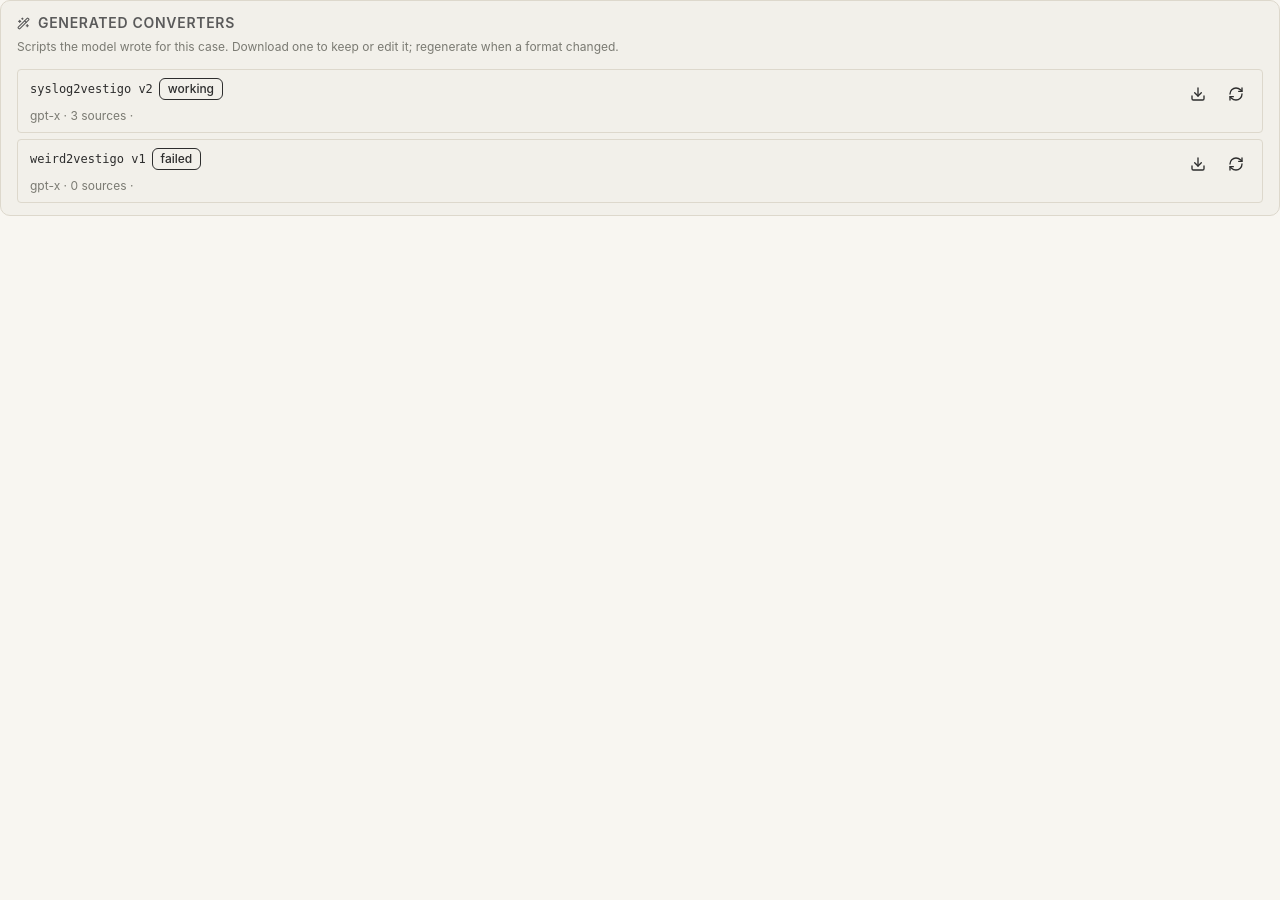
GeneratedConvertersPanel › disables Regenerate for a script whose job is in flight and polls the list
The width and height of the screenshot is (1280, 900).
What coordinates should you click on to do the following:
click the button named "Regenerate syslog2vestigo"
I would click on:
 (1236, 94)
Its box is [1218, 76, 1254, 112].
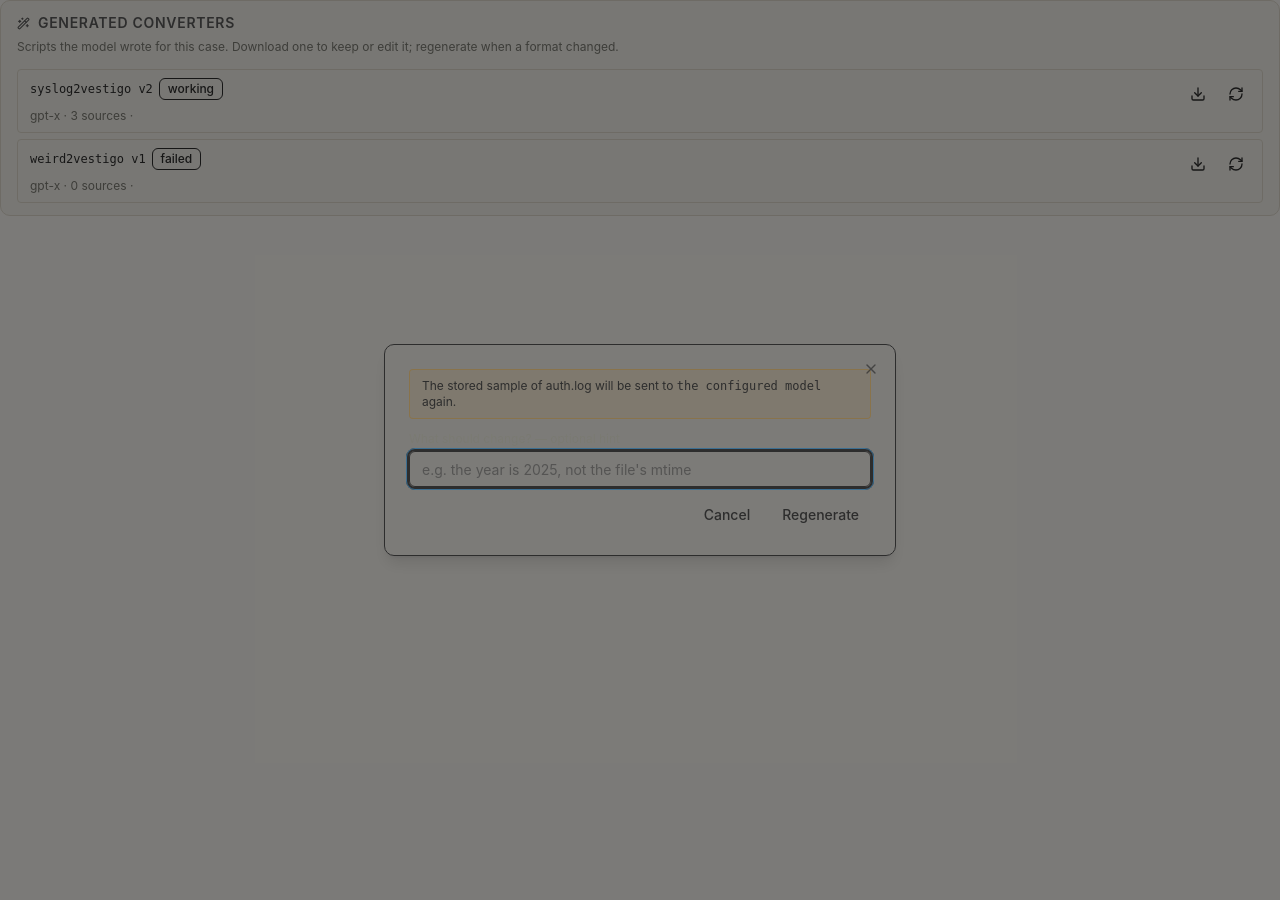
What coordinates should you click on to do the following:
click the button "Regenerate"
I would click on:
 (821, 515)
Its box is [770, 499, 871, 531].
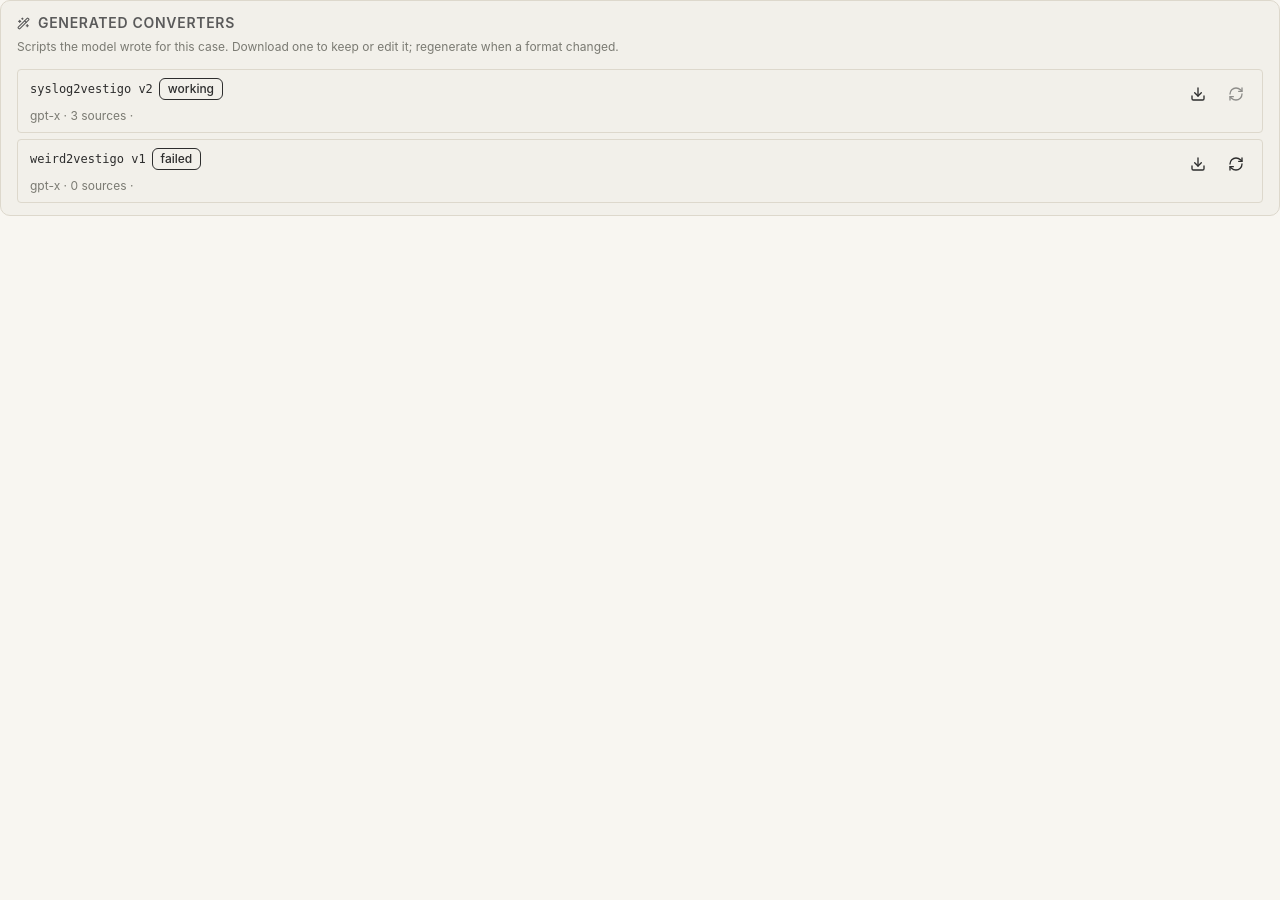
Expected: the button named "Regenerate syslog2vestigo" is disabled
Note: …and a second click cannot start a second job.
What coordinates should you click on to do the following:
click the button named "Regenerate syslog2vestigo"
I would click on:
 (1236, 94)
Its box is [1218, 76, 1254, 112].
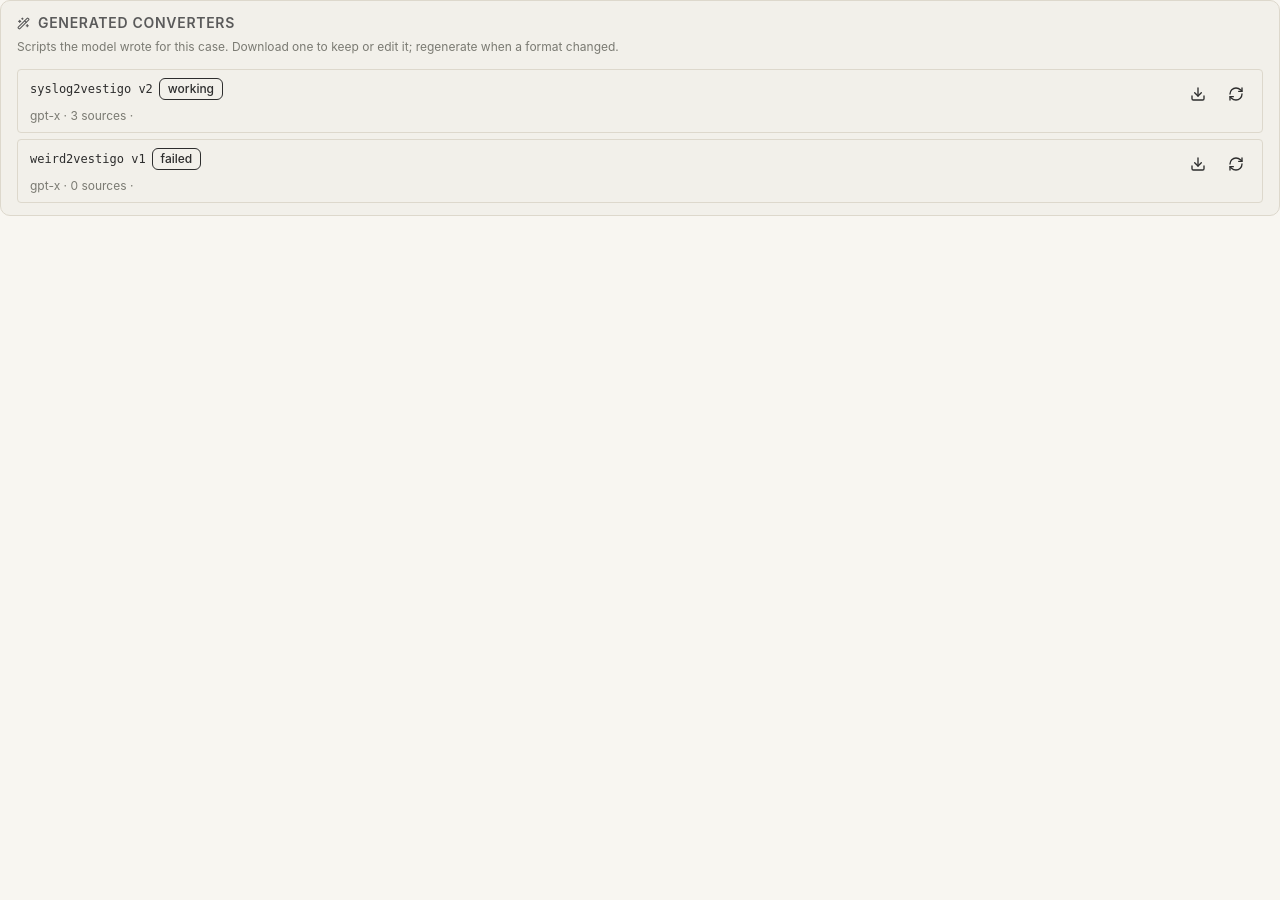
Expected: the button named "Regenerate weird2vestigo" is enabled, [1218, 146, 1254, 182]
Expected: the button named "Regenerate syslog2vestigo" is enabled, [1218, 76, 1254, 112]
